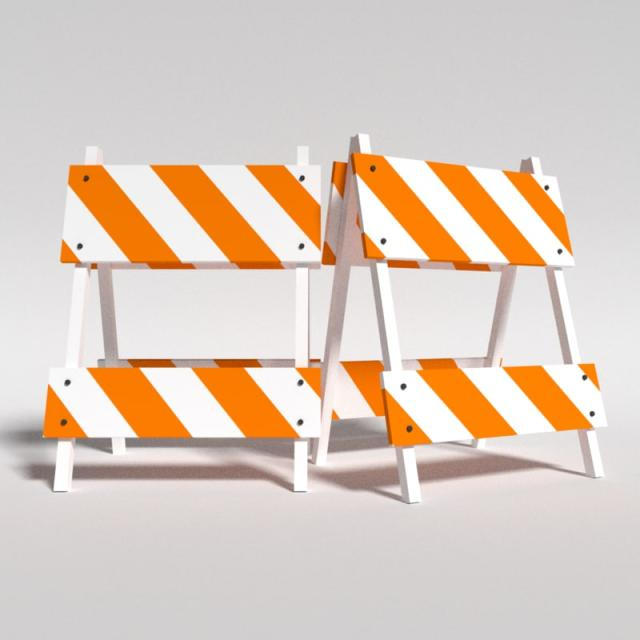cone: (42, 134, 608, 502)
